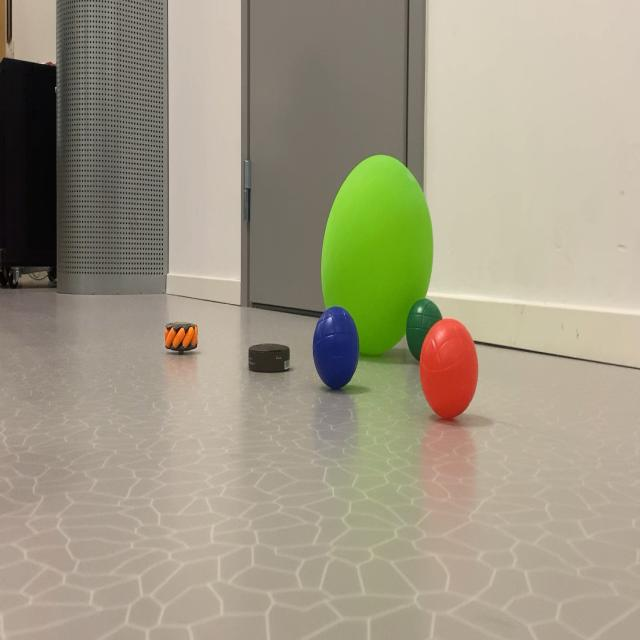7: (415, 313, 491, 426)
green ball: (307, 290, 365, 409)
red ball: (404, 278, 441, 362)
